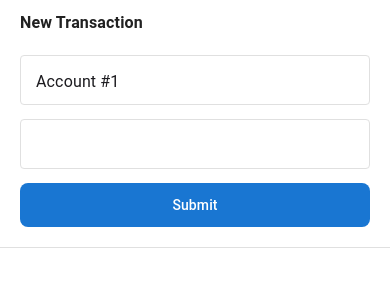
Test: TransactionForm › shows validation error when amount is zero
The width and height of the screenshot is (390, 285).
Type "0" into the field with test id "amount-input".
click(195, 145); type("0")  # box [20,121,370,169]
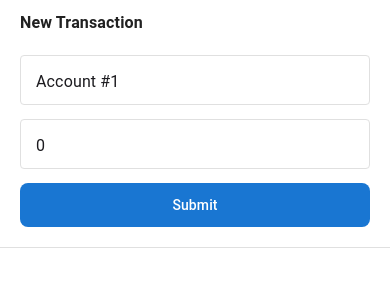
Click the button with test id "submit-button".
click(195, 205)  # box [20,185,370,225]
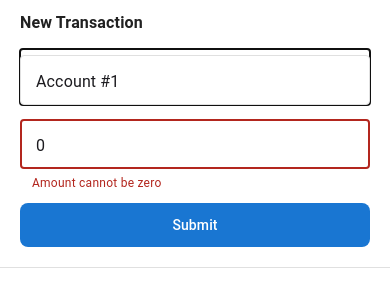
Result: the text with test id "amount-error" shows "cannot be zero" at [32,176,162,190]
